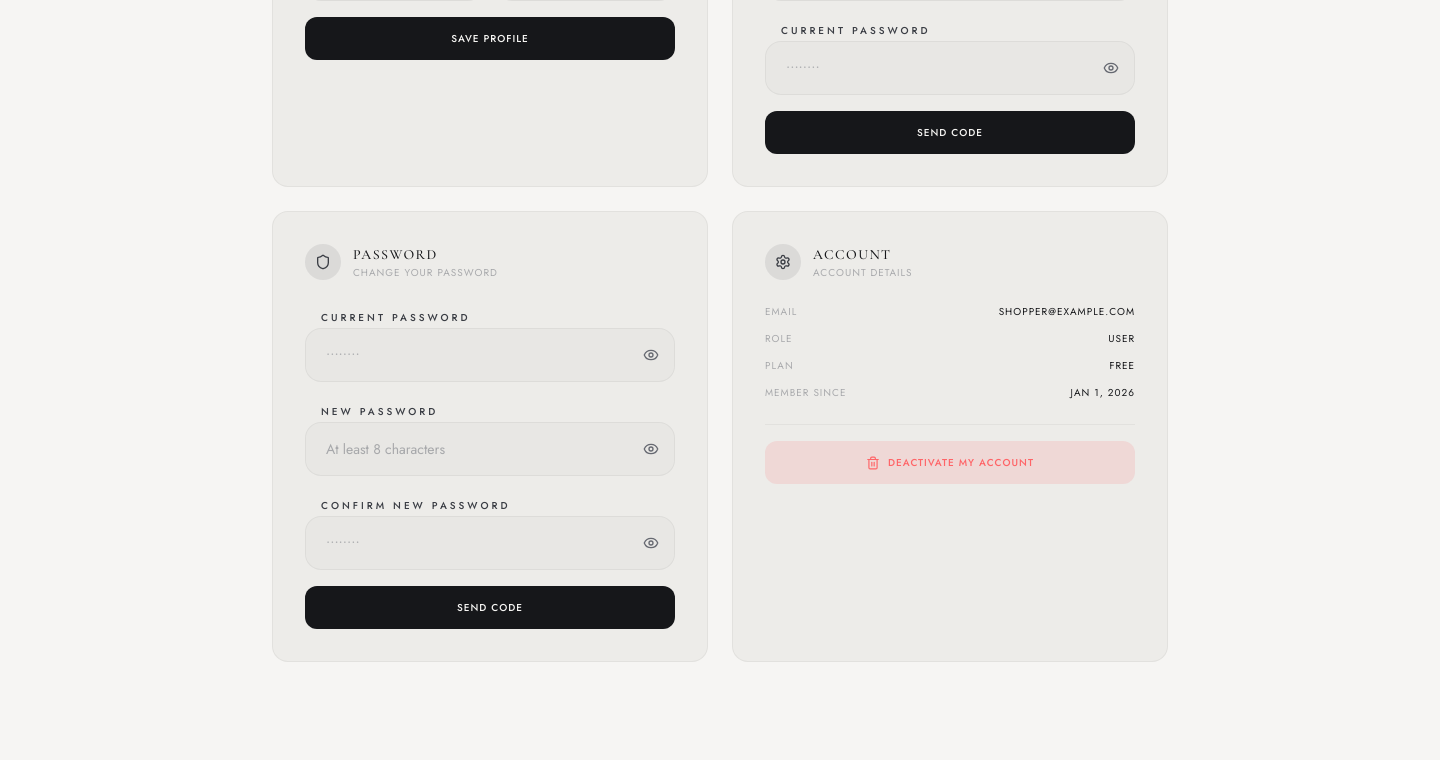
Test: SettingsPage › mismatched new/confirm passwords are rejected client-side, without requesting a code
(page scrolled)
Type "Sup3r-secret-pw" into the 2nd password field with placeholder "••••••••".
click(490, 355); type("Sup3r-secret-pw")  # box x1=305 y1=328 x2=675 y2=382
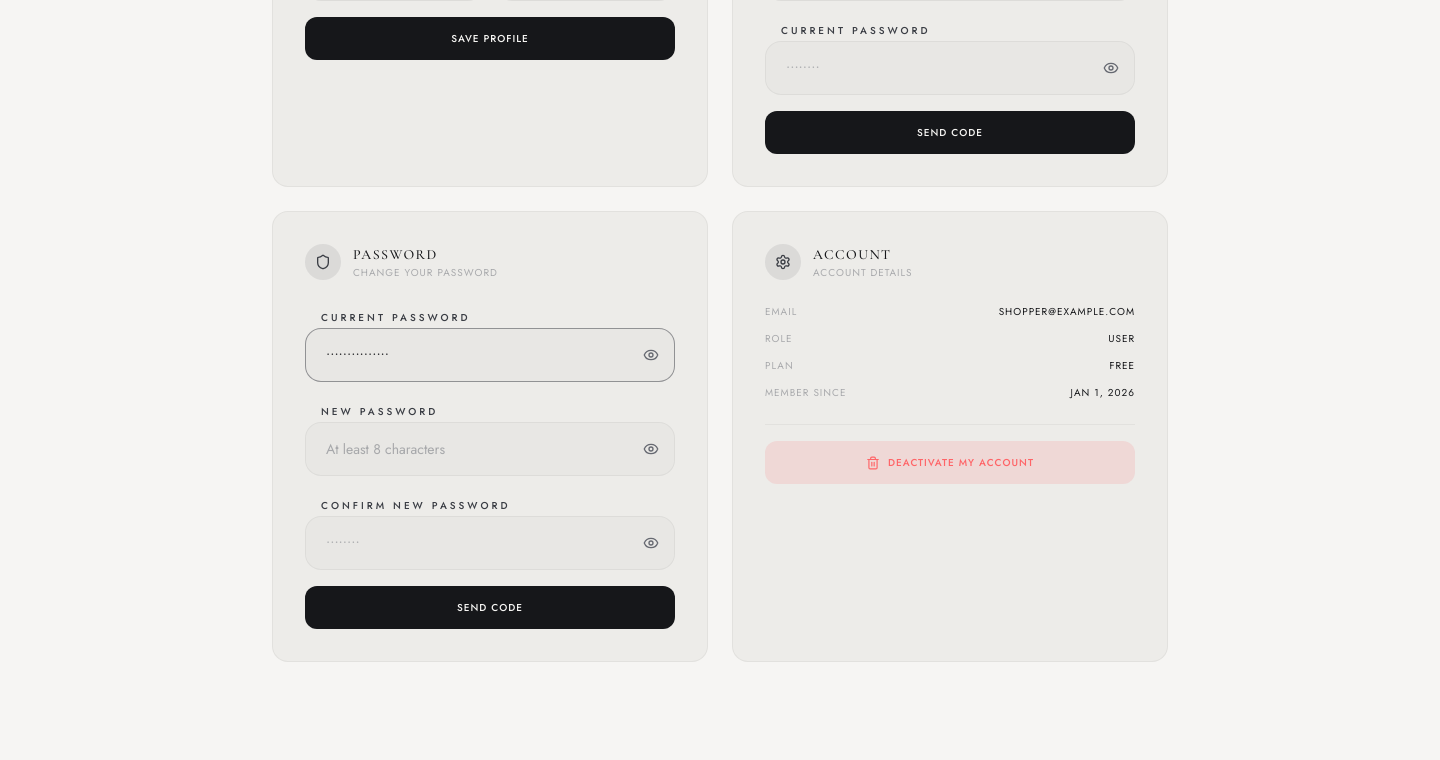
Type "New-Password-123" into the password field with placeholder "At least 8 characters".
click(490, 449); type("New-Password-123")  # box x1=305 y1=422 x2=675 y2=476
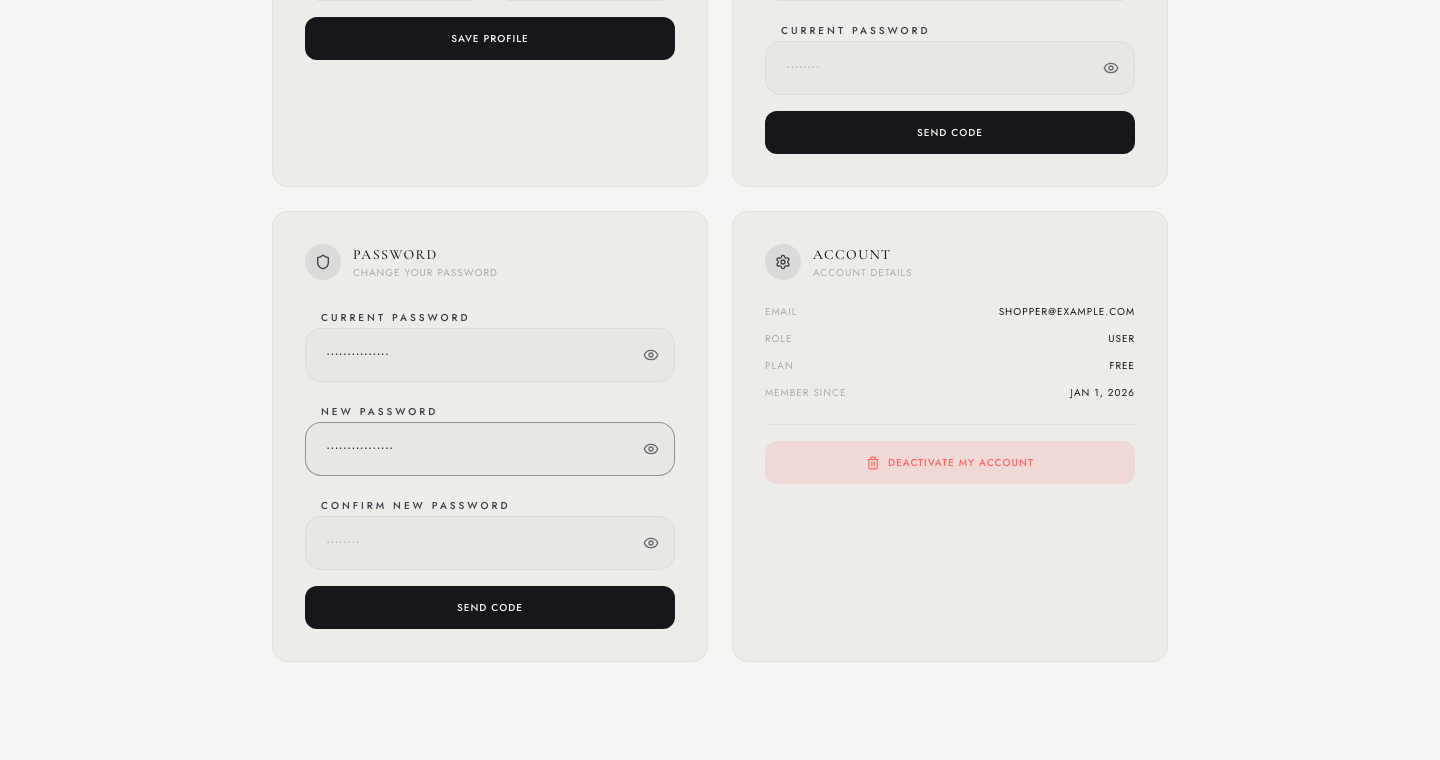
Type "Something-Else-456" into the password field with placeholder "••••••••" below "Confirm New Password".
click(490, 543); type("Something-Else-456")  # box x1=305 y1=516 x2=675 y2=570
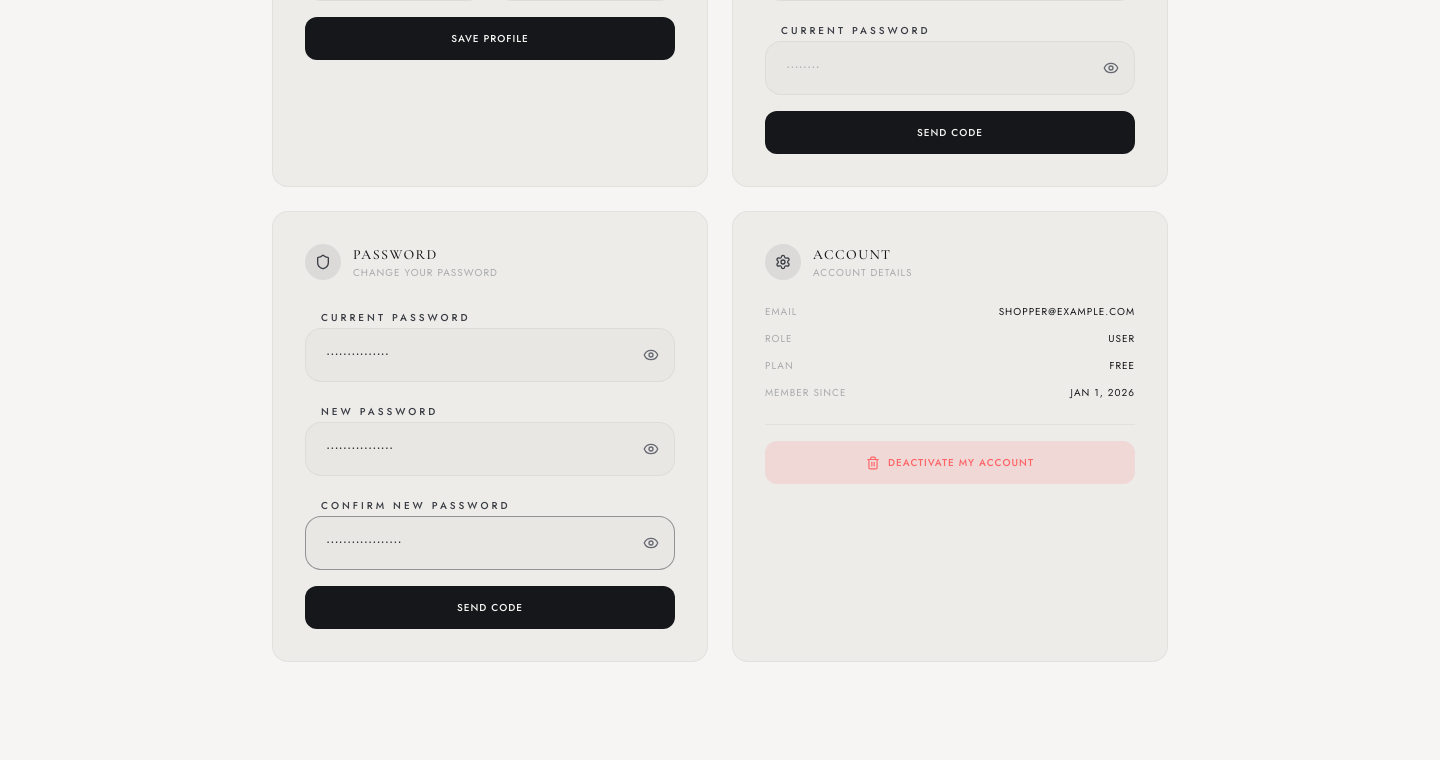
Click the button "Send Code" below "Confirm New Password".
click(490, 608)  # box x1=305 y1=586 x2=675 y2=629
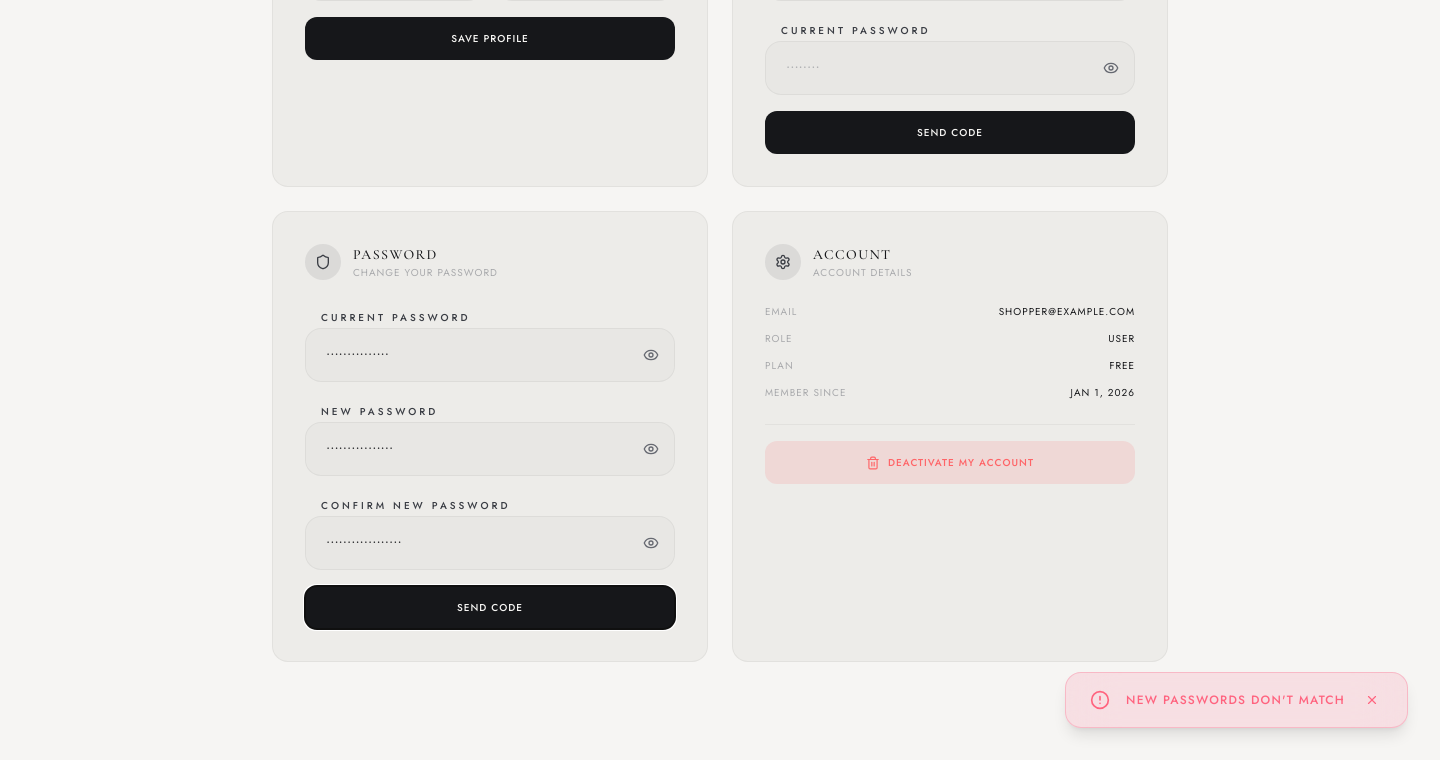
Expected: the text "New passwords don't match" is shown, x1=1126 y1=692 x2=1345 y2=708
